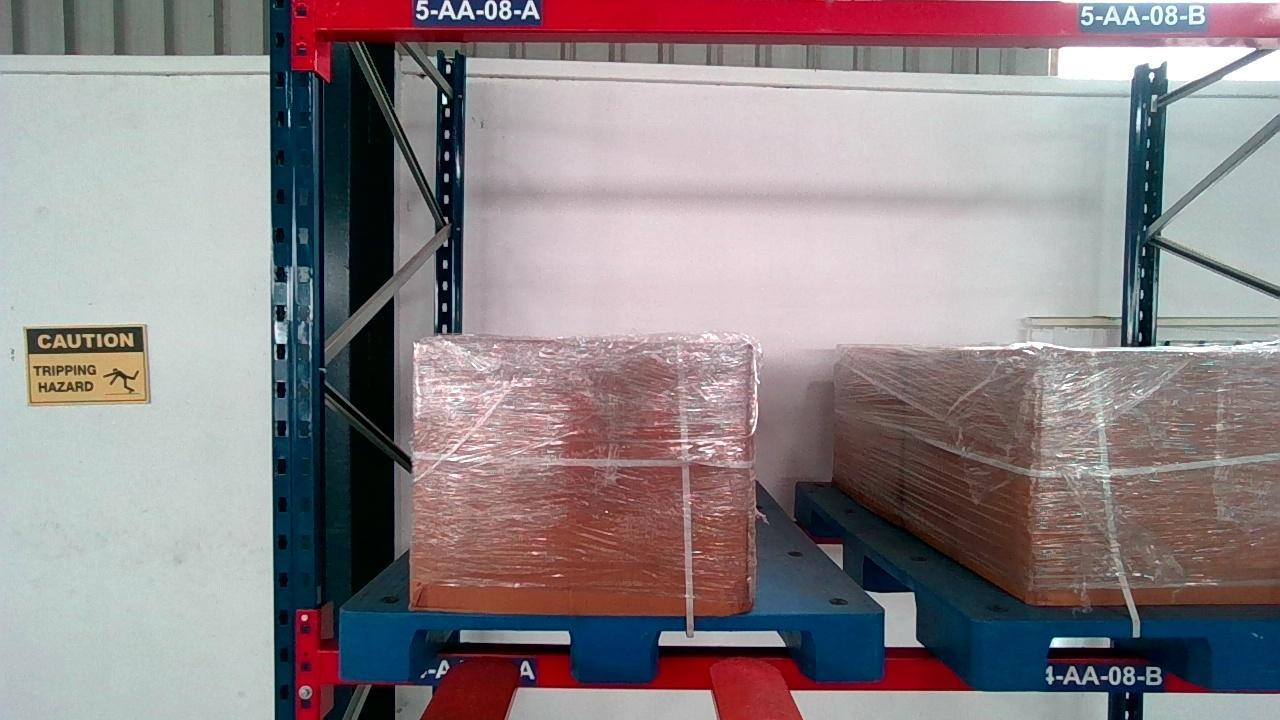h_rack: (320, 651, 1197, 688), (317, 0, 1275, 30)
small_pallet: (341, 610, 881, 676), (981, 620, 1274, 683)
